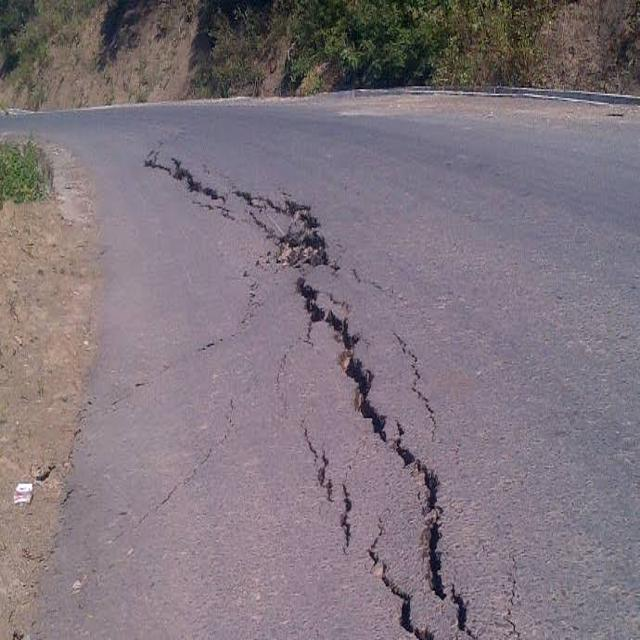Memanjang: (131, 144, 497, 640), (294, 415, 453, 640)
